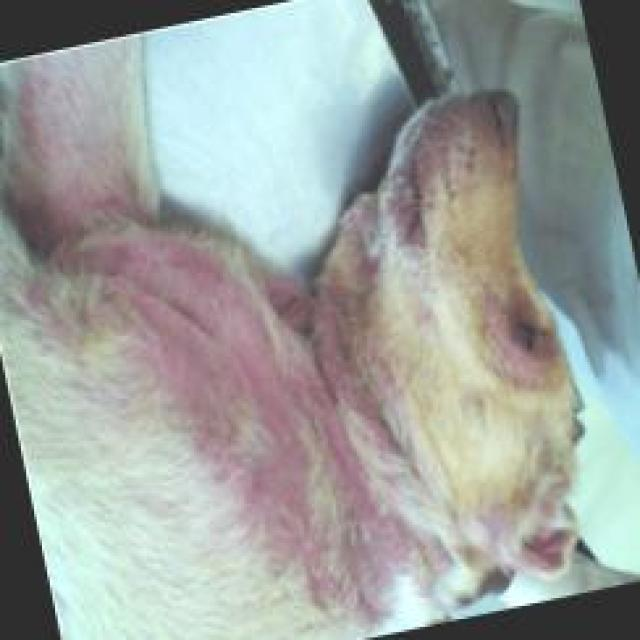allergic dermatitis: (208, 351, 417, 615), (71, 241, 224, 427), (15, 33, 132, 271), (163, 282, 265, 460), (258, 288, 359, 382), (482, 290, 512, 398), (501, 350, 556, 402)
